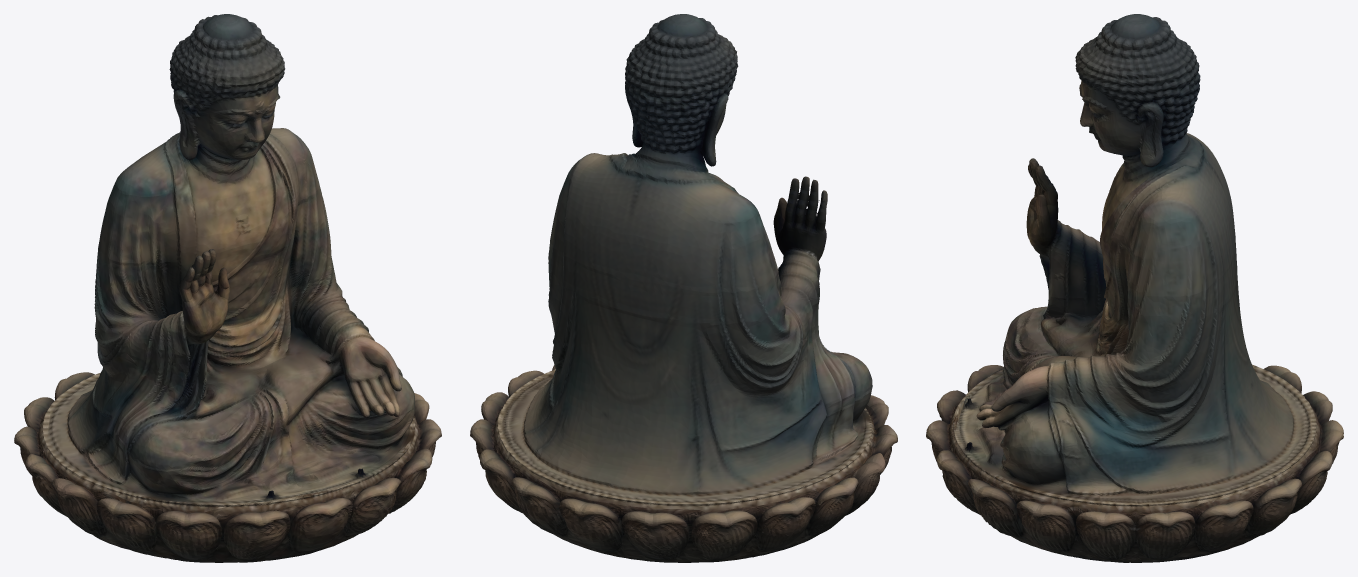
Rendered from Sample_Med.glb.
The picture shows the model from 3 angles, left to right: view 1: azimuth 30°, elevation 25°; view 2: azimuth 150°, elevation 25°; view 3: azimuth 270°, elevation 25°; orthographic projection.
Parts seen in each view (by area): view 1: big buddha_copy; view 2: big buddha_copy; view 3: big buddha_copy.
Boxes of the visible parts, left/top/right/bottom form: big buddha_copy: left=14, top=14, right=441, bottom=562; big buddha_copy: left=470, top=14, right=897, bottom=562; big buddha_copy: left=926, top=14, right=1343, bottom=562.
Size of the model in its own units: 60.37 by 74.99 by 59.49.
Materials: 1 (1 with a texture image).
